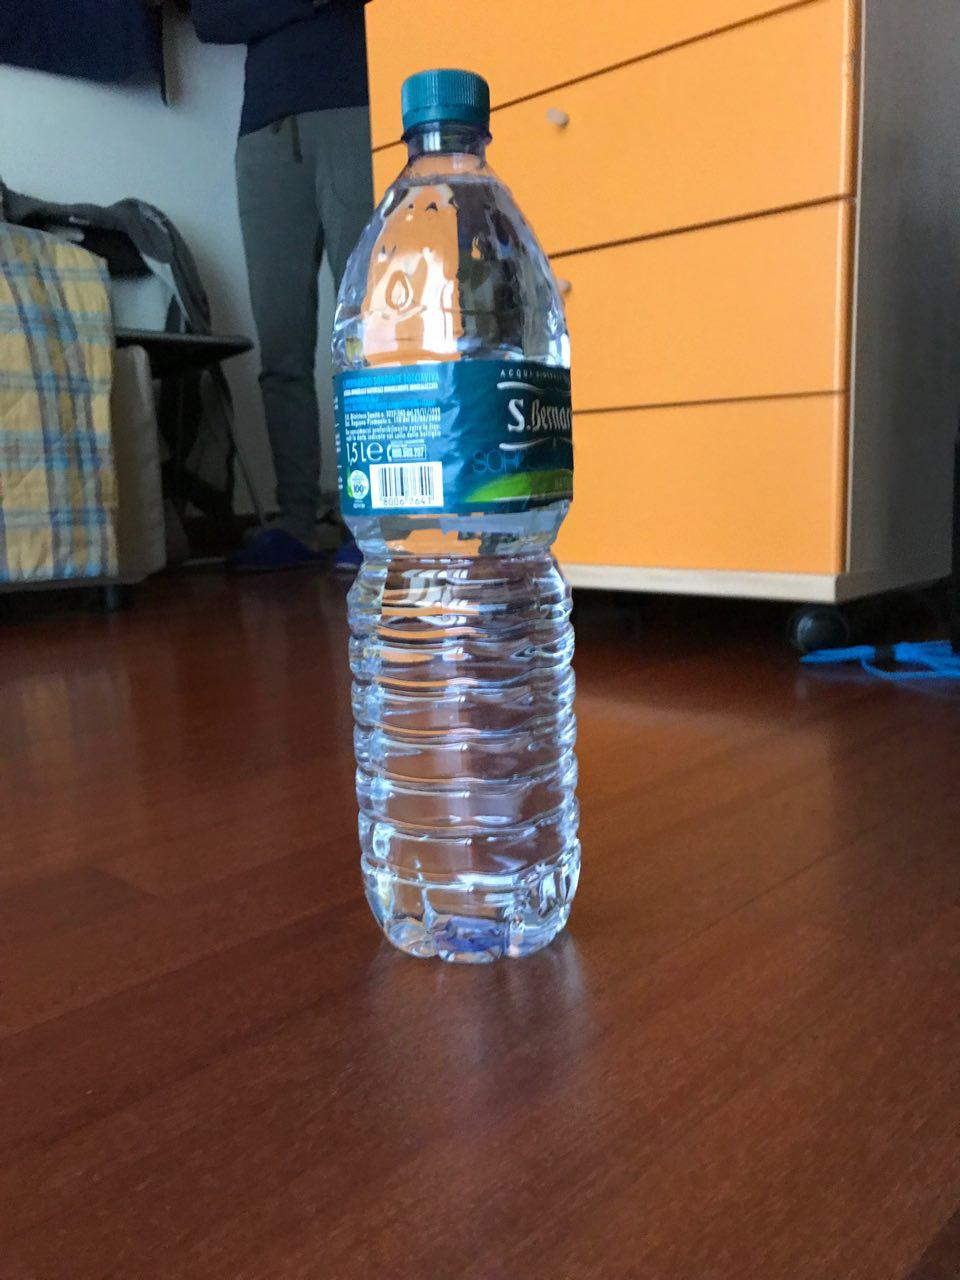san_bernardo: (327, 67, 585, 967)
